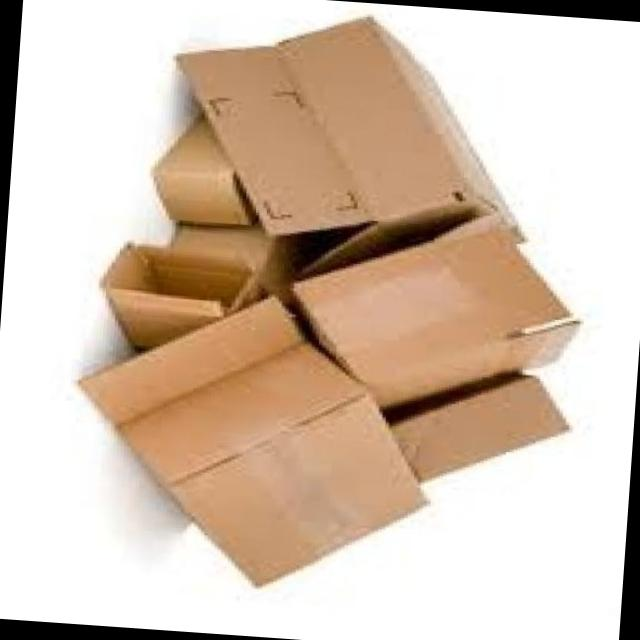cardboard paper: (82, 21, 578, 586)
